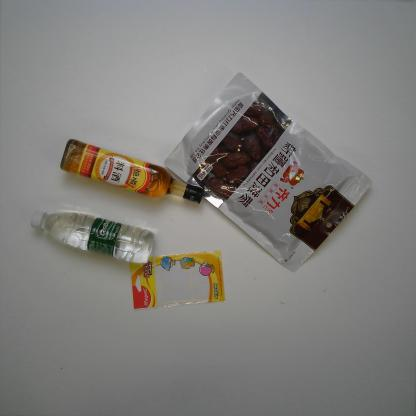Dried Food: (161, 67, 374, 274)
Drink: (21, 206, 156, 269)
Seasoner: (60, 137, 205, 210)
Stationery: (128, 248, 227, 310)
